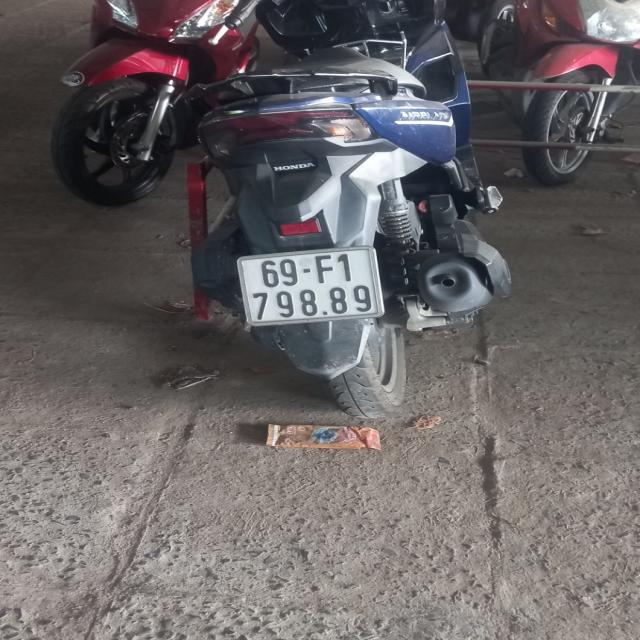1: (336, 254, 351, 282)
6: (262, 260, 278, 287)
7: (252, 291, 268, 320)
8: (328, 286, 348, 314), (300, 289, 318, 316)
9: (279, 259, 298, 286), (276, 291, 294, 318), (354, 286, 372, 312)
F: (316, 254, 334, 284)
